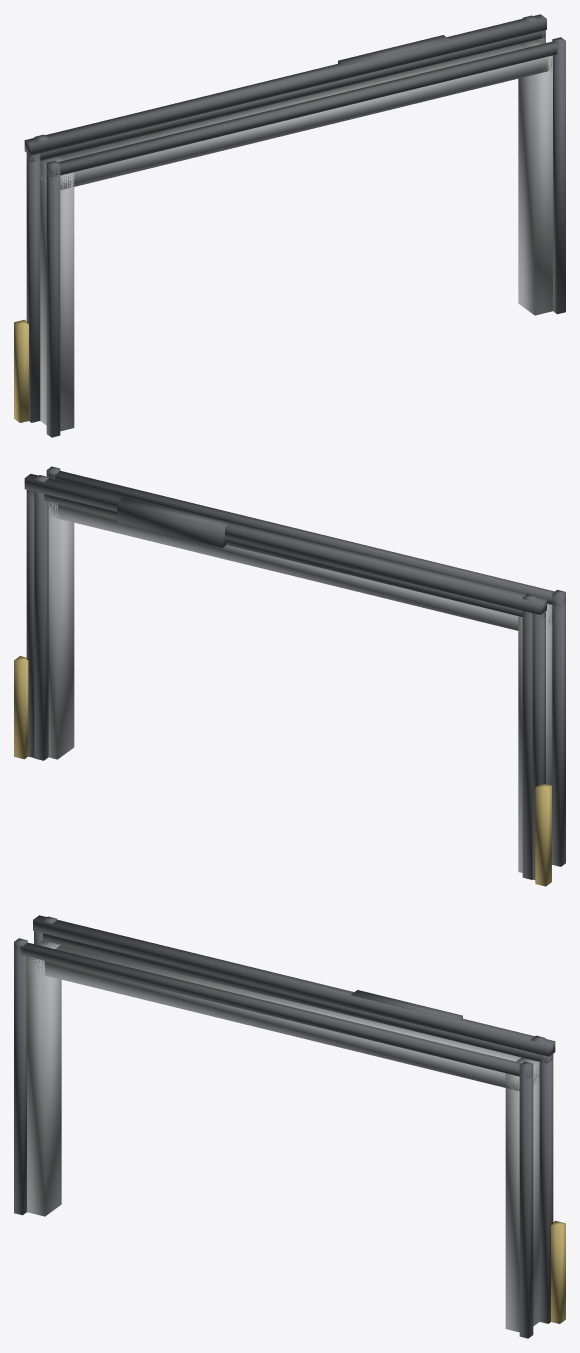
File: bay_opening_loading_bay_w480_h240_d30.glb
The picture shows the model from 3 angles, top to bottom: view 1: azimuth 30°, elevation 25°; view 2: azimuth 150°, elevation 25°; view 3: azimuth 330°, elevation 25°; orthographic projection.
Parts seen in each view (by area): view 1: world; view 2: world; view 3: world.
Part boxes in pixels (x1,y1,x2,y2): world: [14, 14, 565, 437]; world: [14, 466, 565, 886]; world: [14, 915, 565, 1338].
Size of the model in its own units: 5.54 by 2.79 by 0.522.
